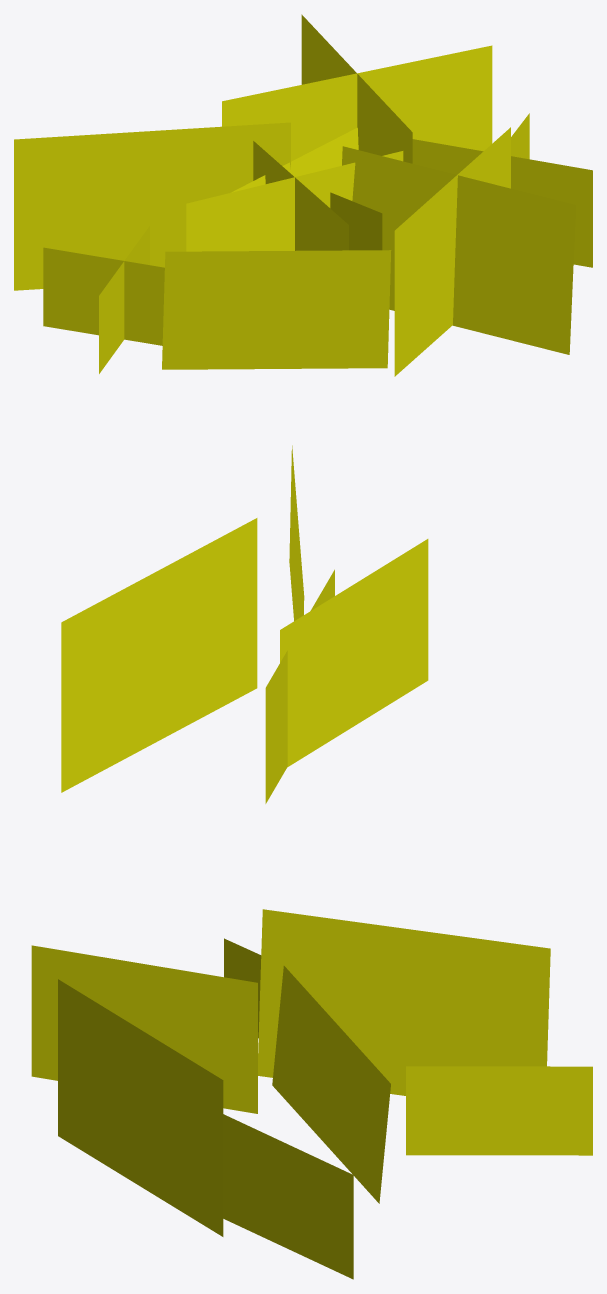
File: grass_e.glb
The picture shows the model from 3 angles, top to bottom: view 1: azimuth 30°, elevation 25°; view 2: azimuth 150°, elevation 25°; view 3: azimuth 270°, elevation 25°; orthographic projection. The views are drawn at different scales.
Parts seen in each view (by area): view 1: Grass_F_03; view 2: Grass_F_03; view 3: Grass_F_03.
Part boxes in pixels (box(x1,y1,x2,y2)): Grass_F_03: box(14, 14, 592, 376); Grass_F_03: box(61, 445, 428, 803); Grass_F_03: box(31, 909, 592, 1279).
Size of the model in its own units: 1.52 by 0.4904 by 1.44.
